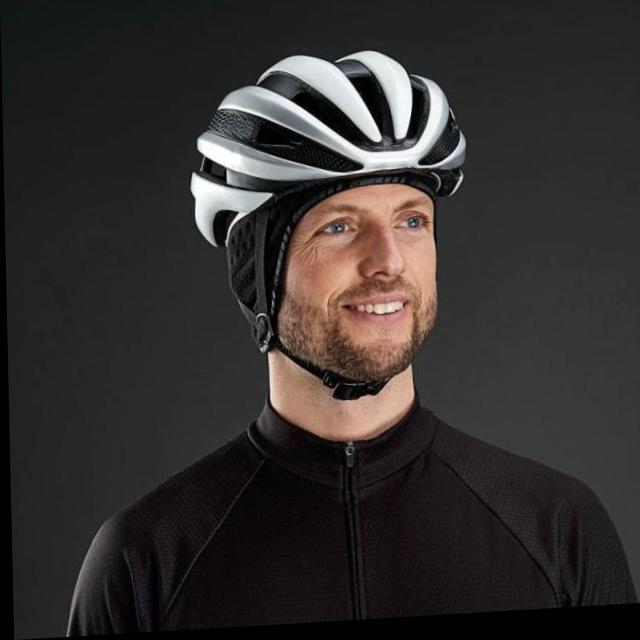helmet: (187, 46, 473, 413)
